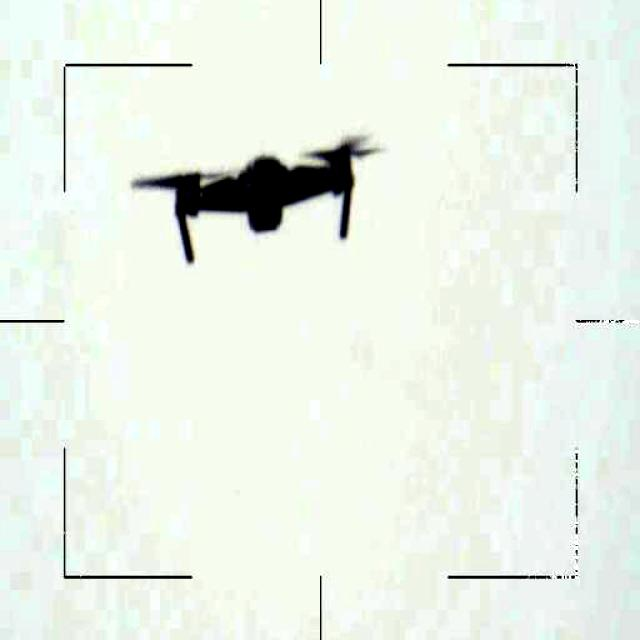bird: (132, 136, 395, 268)
